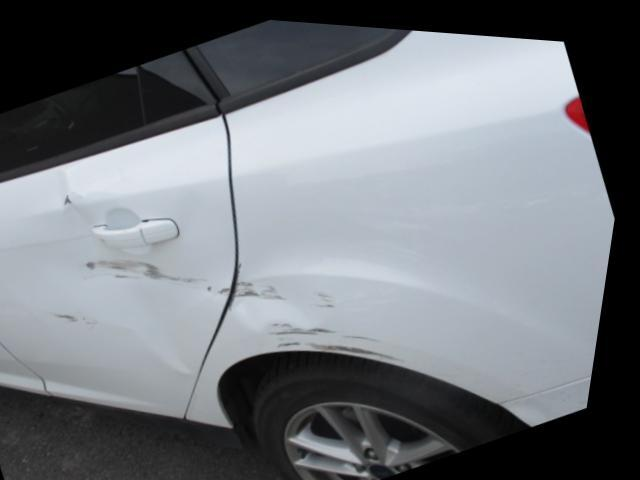dent: (142, 283, 214, 370), (25, 166, 103, 236)
scratch: (92, 257, 217, 286), (320, 337, 415, 359), (275, 317, 348, 332), (243, 277, 294, 295), (232, 256, 247, 309), (62, 311, 107, 324), (322, 286, 345, 303), (350, 327, 390, 336), (287, 333, 312, 346), (225, 283, 239, 290), (70, 194, 77, 203), (214, 280, 221, 288)
